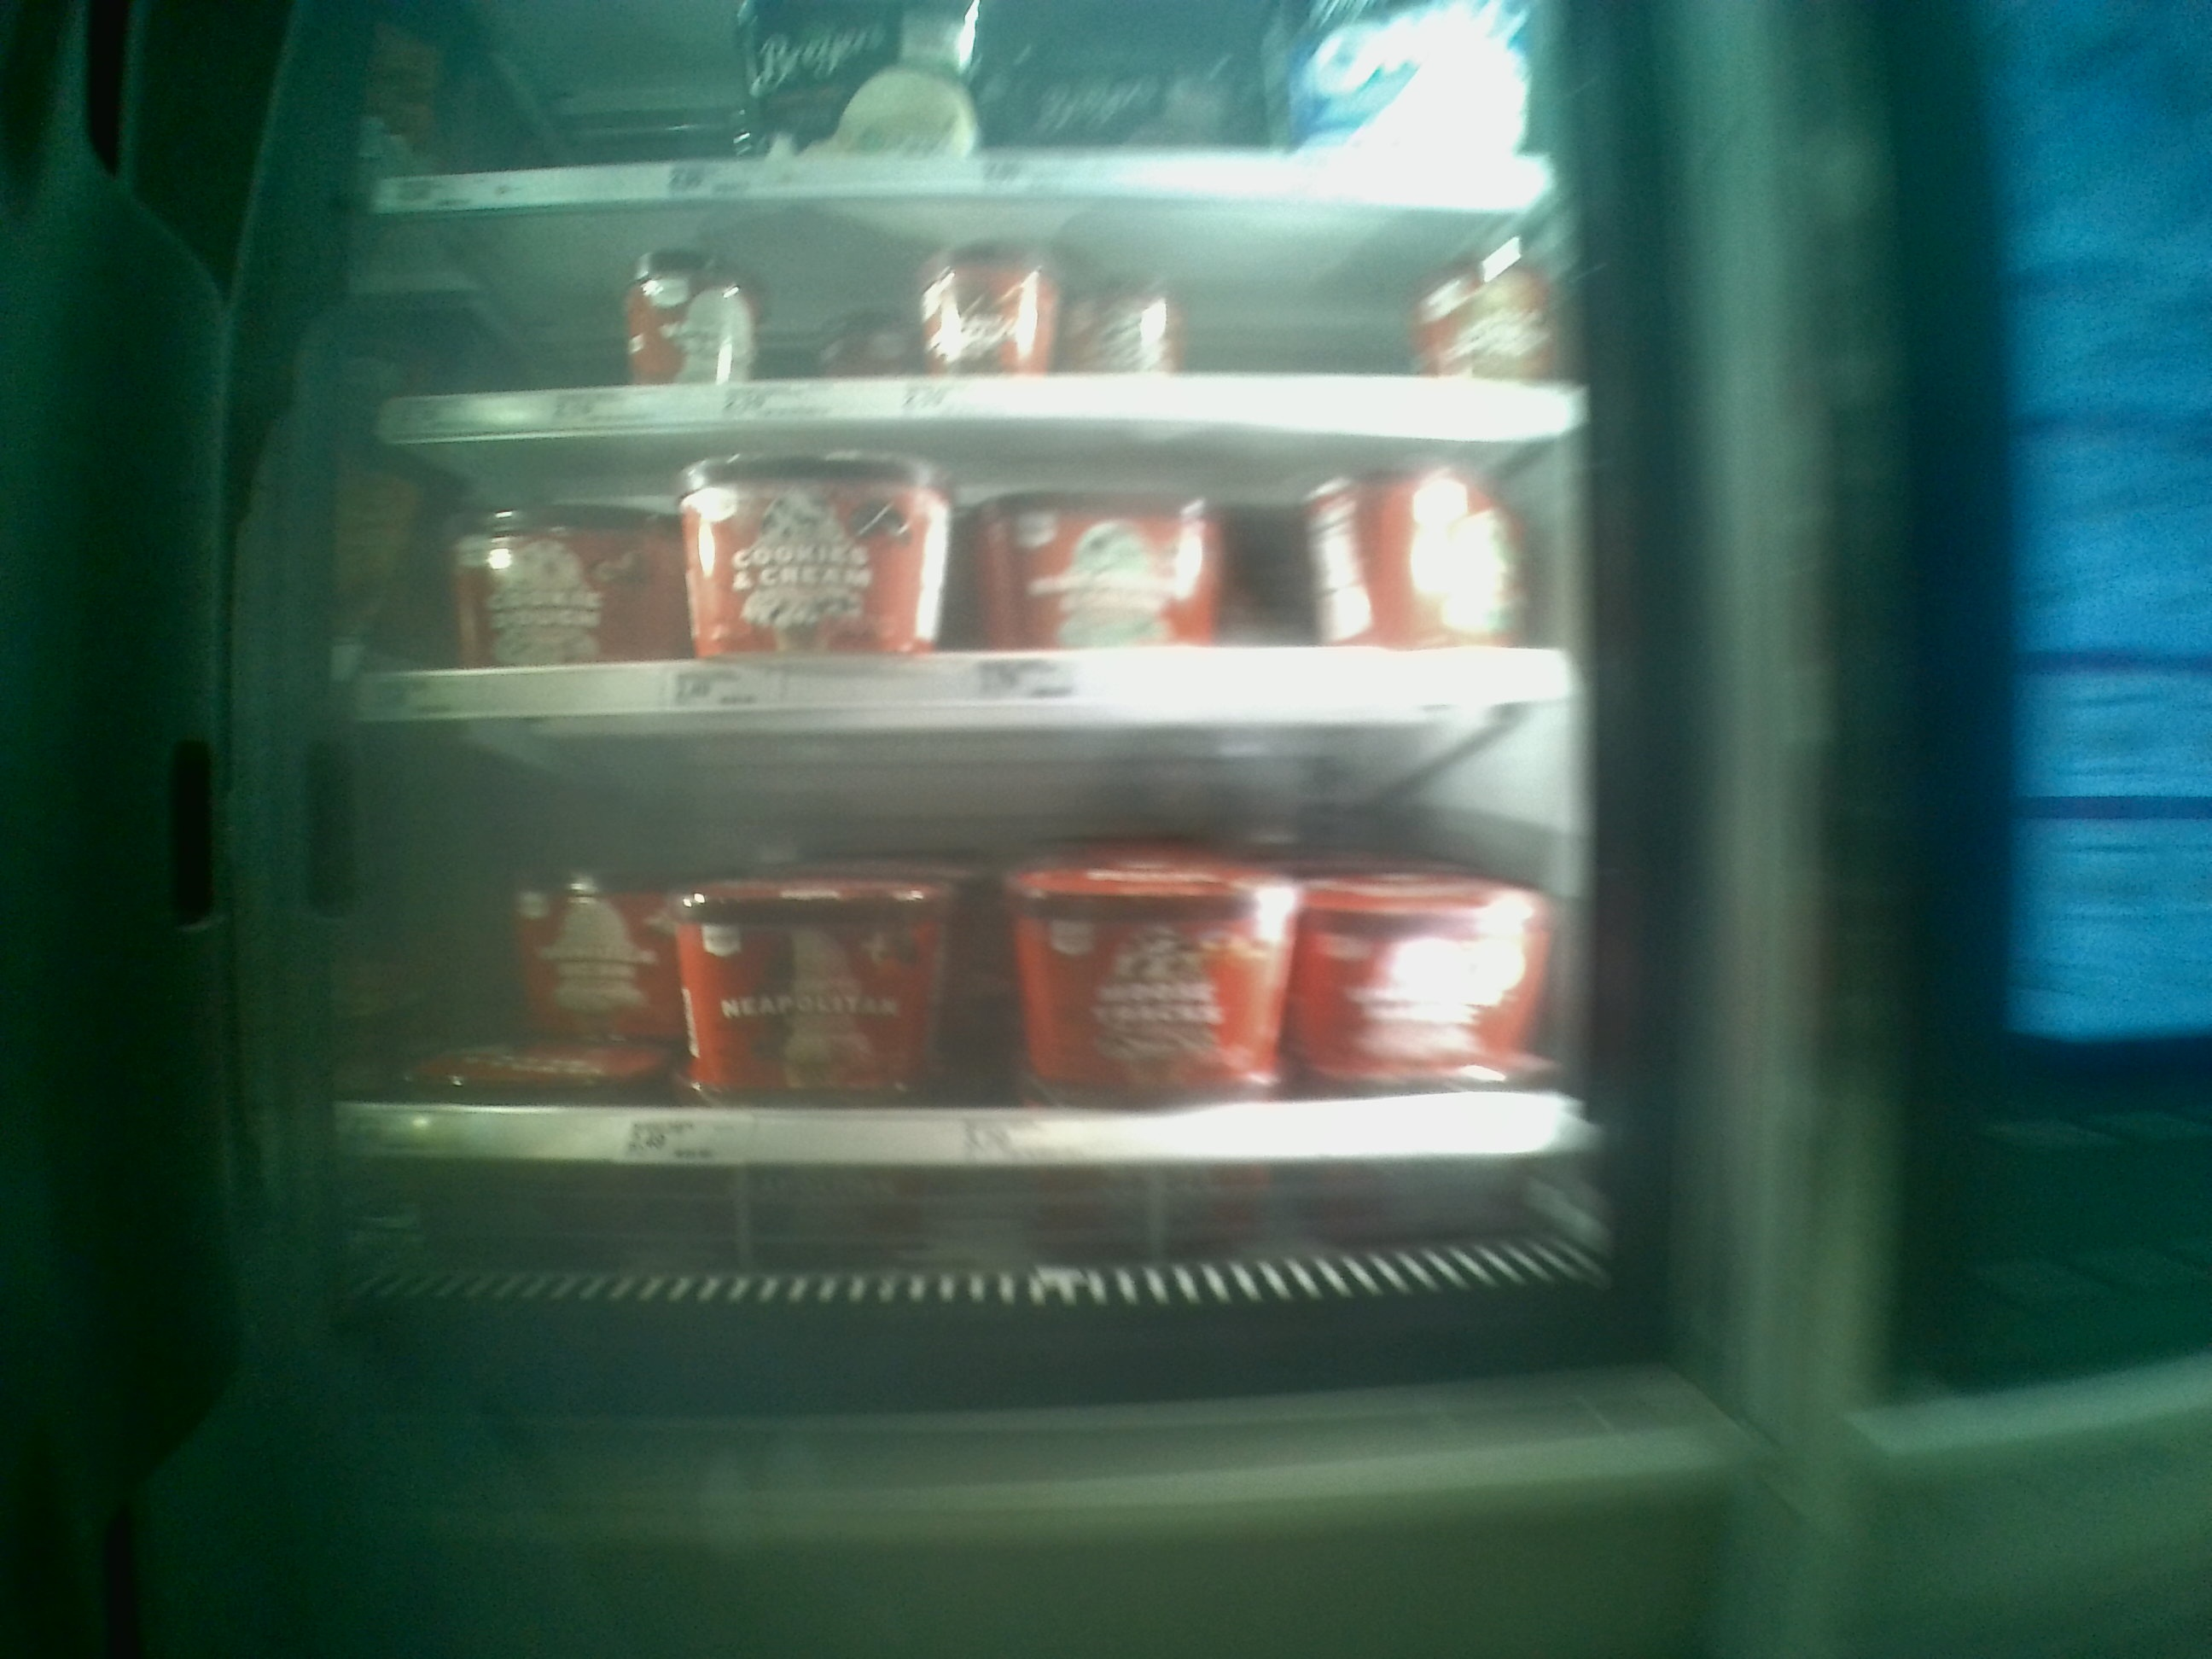ice-cream-shelf: (347, 727, 1588, 1169), (350, 439, 1588, 721)
